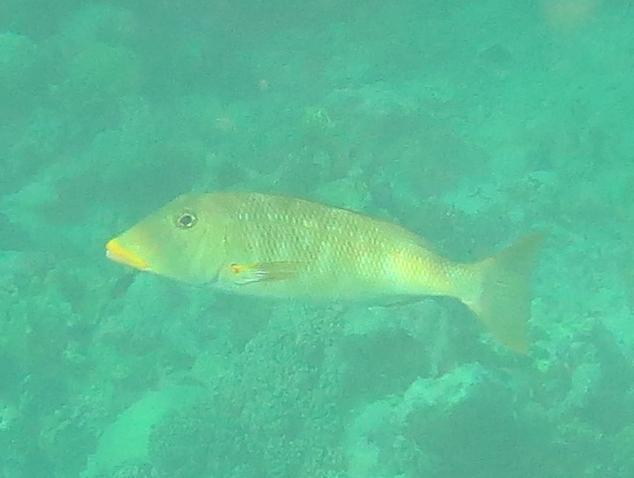Fish: (85, 175, 562, 372)
